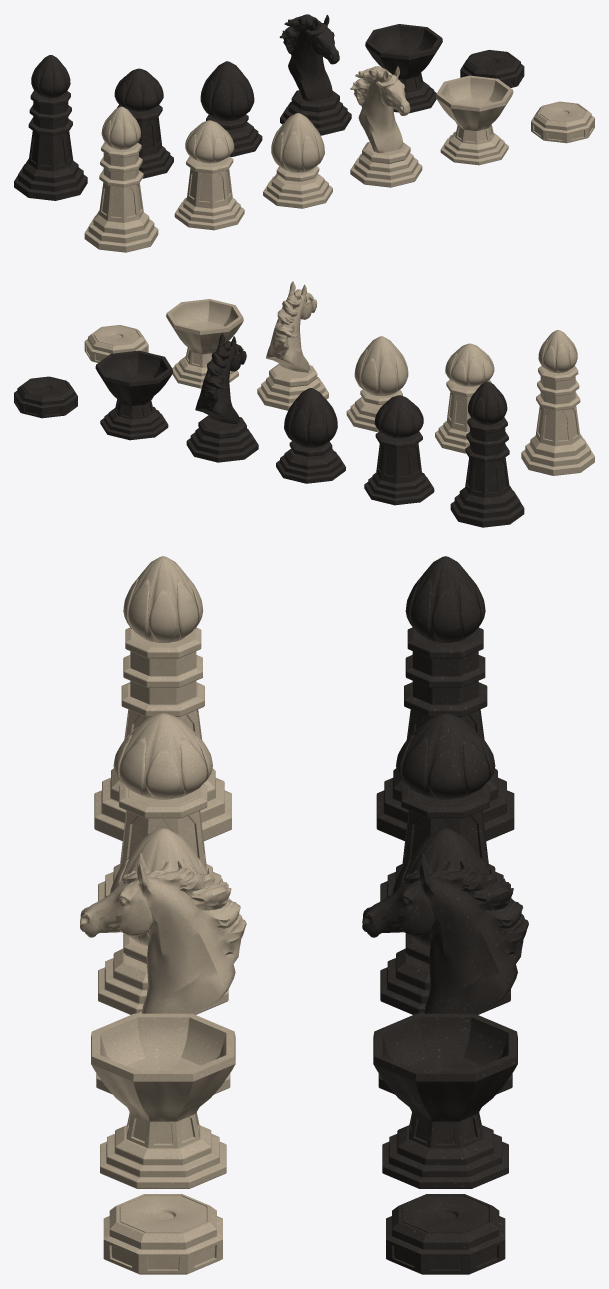
Rendered from courtyard.glb.
3 views of the same model, one above another, from view 1: azimuth 30°, elevation 25°; view 2: azimuth 150°, elevation 25°; view 3: azimuth 270°, elevation 25° (orthographic). The views are drawn at different scales.
Parts seen in each view (by area): view 1: Ses chisel-cut anatomical stone bust.001, Ses chisel-cut anatomical stone bust, Touk fluted hollow octagonal bowl, Touk fluted hollow octagonal bowl.001, Three terraced octagonal foot, Three terraced octagonal foot.005, Three terraced octagonal foot.002, Three terraced octagonal foot.003, Recessed pointed shaft panels.001, Three terraced octagonal foot.001, Trey inset octagonal top and circular thumb recess, Recessed pointed shaft panels.004 (+32 smaller); view 2: Touk fluted hollow octagonal bowl.001, Touk fluted hollow octagonal bowl, Ses chisel-cut anatomical stone bust.001, Ses chisel-cut anatomical stone bust, Three terraced octagonal foot.005, Three terraced octagonal foot, Three terraced octagonal foot.007, Three terraced octagonal foot.008, Recessed pointed shaft panels.005, Three terraced octagonal foot.006, Trey inset octagonal top and circular thumb recess.001, Recessed pointed shaft panels (+33 smaller); view 3: Ses chisel-cut anatomical stone bust.001, Ses chisel-cut anatomical stone bust, Touk fluted hollow octagonal bowl.001, Touk fluted hollow octagonal bowl, Trey inset octagonal top and circular thumb recess, Trey inset octagonal top and circular thumb recess.001, Three terraced octagonal foot.009, Three terraced octagonal foot.004, Three terraced octagonal foot.005, Three terraced octagonal foot, Three terraced octagonal foot.007, Three terraced octagonal foot.002 (+32 smaller).
Boxes of the visible parts, <box> form: Ses chisel-cut anatomical stone bust.001: <box>279,14,339,101</box>; Ses chisel-cut anatomical stone bust: <box>350,66,410,152</box>; Touk fluted hollow octagonal bowl: <box>435,75,513,130</box>; Touk fluted hollow octagonal bowl.001: <box>365,24,442,79</box>; Three terraced octagonal foot: <box>84,210,158,252</box>; Three terraced octagonal foot.005: <box>14,159,87,200</box>; Three terraced octagonal foot.002: <box>263,173,332,208</box>; Three terraced octagonal foot.003: <box>350,153,422,187</box>; Recessed pointed shaft panels.001: <box>186,168,232,208</box>; Three terraced octagonal foot.001: <box>174,197,244,230</box>; Trey inset octagonal top and circular thumb recess: <box>531,101,594,132</box>; Recessed pointed shaft panels.004: <box>28,131,73,171</box>; Touk fluted hollow octagonal bowl.001: <box>95,350,173,405</box>; Touk fluted hollow octagonal bowl: <box>166,299,243,354</box>; Ses chisel-cut anatomical stone bust.001: <box>195,333,246,424</box>; Ses chisel-cut anatomical stone bust: <box>266,281,317,372</box>; Three terraced octagonal foot.005: <box>450,485,524,527</box>; Three terraced octagonal foot: <box>521,434,594,475</box>; Three terraced octagonal foot.007: <box>276,448,345,483</box>; Three terraced octagonal foot.008: <box>186,428,258,462</box>; Recessed pointed shaft panels.005: <box>376,443,422,483</box>; Three terraced octagonal foot.006: <box>364,472,434,505</box>; Trey inset octagonal top and circular thumb recess.001: <box>14,376,77,407</box>; Recessed pointed shaft panels: <box>535,406,580,446</box>; Ses chisel-cut anatomical stone bust.001: <box>362,853,528,1013</box>; Ses chisel-cut anatomical stone bust: <box>80,853,246,1013</box>; Touk fluted hollow octagonal bowl.001: <box>373,1013,517,1121</box>; Touk fluted hollow octagonal bowl: <box>91,1013,235,1121</box>; Trey inset octagonal top and circular thumb recess: <box>103,1194,222,1254</box>; Trey inset octagonal top and circular thumb recess.001: <box>386,1194,505,1254</box>; Three terraced octagonal foot.009: <box>382,1125,508,1188</box>; Three terraced octagonal foot.004: <box>100,1125,226,1188</box>; Three terraced octagonal foot.005: <box>376,768,514,841</box>; Three terraced octagonal foot: <box>94,768,231,841</box>; Three terraced octagonal foot.007: <box>380,948,510,1014</box>; Three terraced octagonal foot.002: <box>98,948,228,1014</box>.
Size of the model in its own units: 0.2928 by 0.074 by 0.1145.
4 materials, 4 textured.
